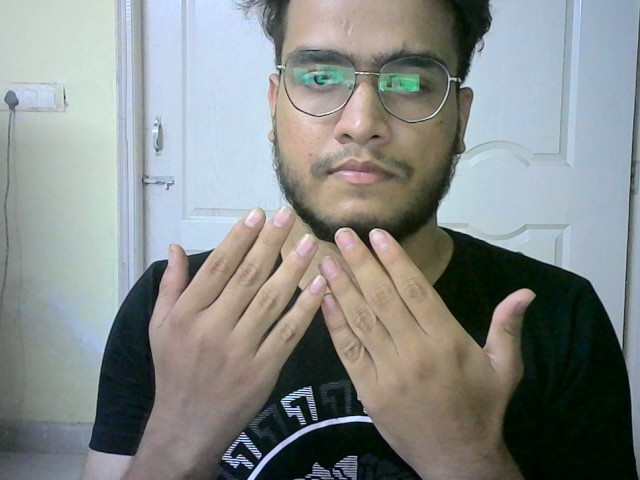Thank You: (141, 202, 539, 425)
